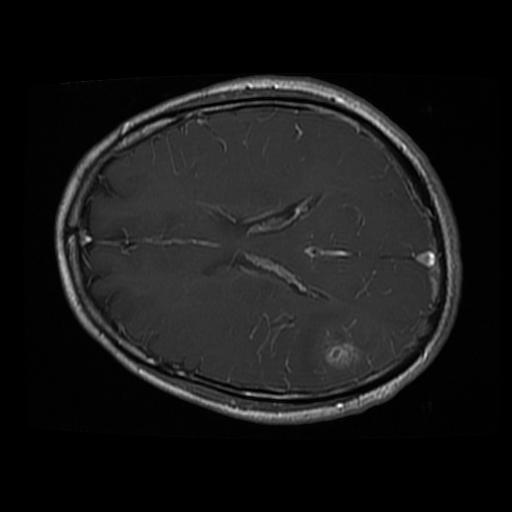glioma: (317, 327, 361, 375)
